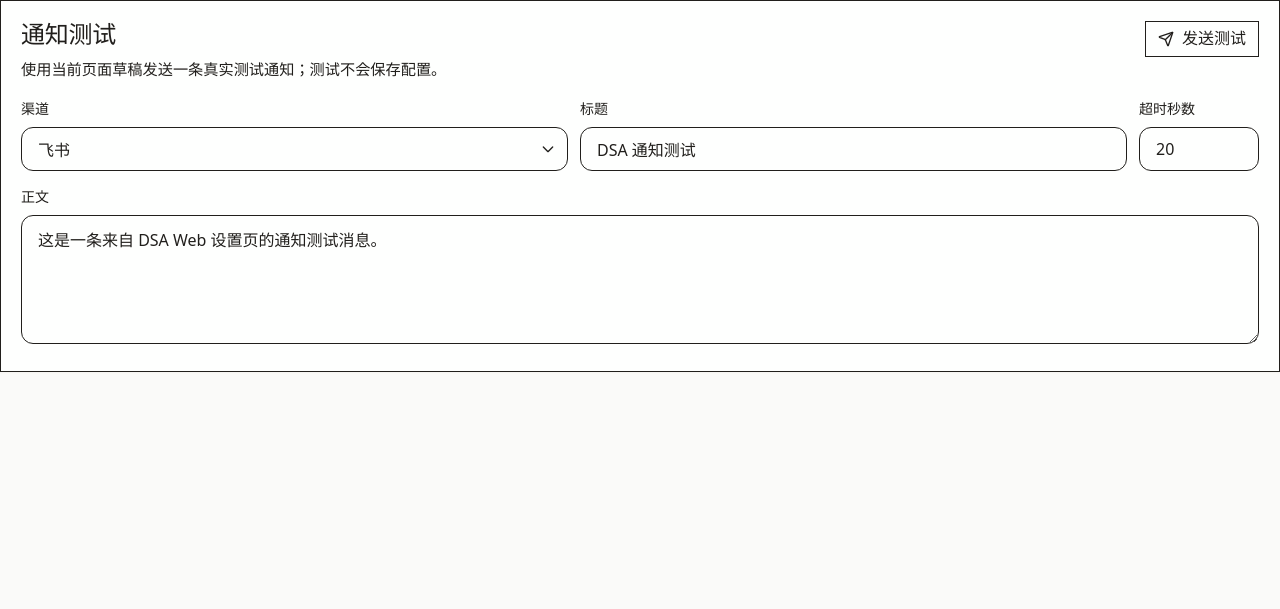
it: NotificationTestPanel › submits draft notification items and renders attempt details
The width and height of the screenshot is (1280, 609).
Click the button "发送测试" at [1202, 39], box [1145,21,1259,57]
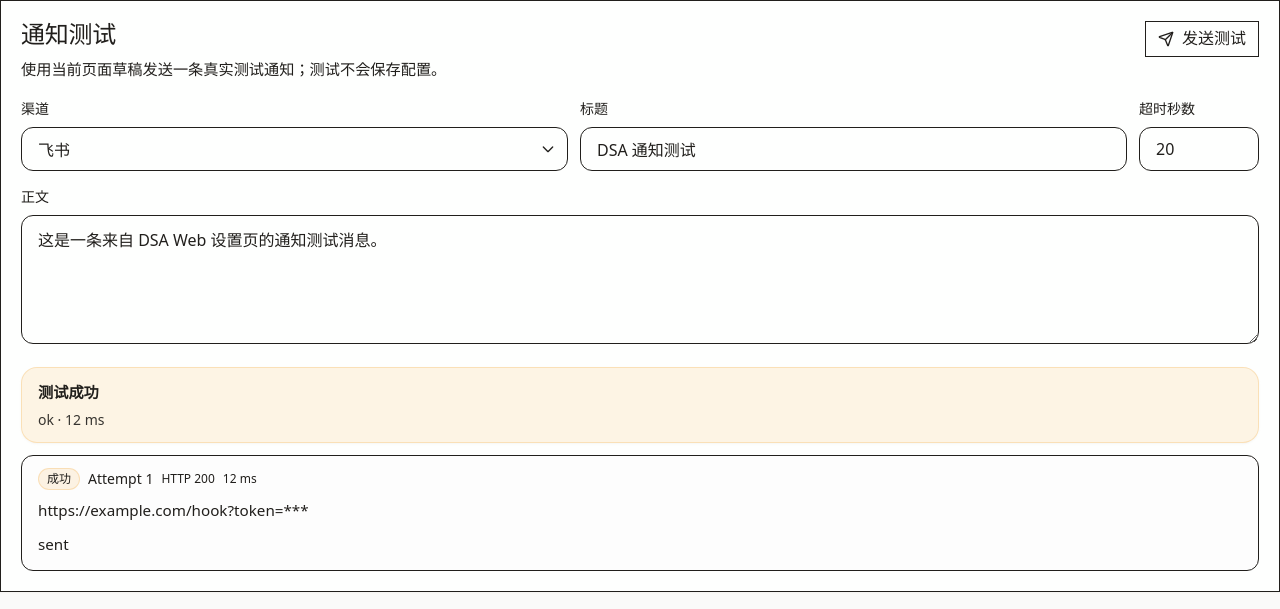
Expected: the text "测试成功" is shown, [38,380,104,406]
Expected: the text "HTTP 200" is shown, [161,471,215,487]
Expected: the text "https://example.com/hook?token=***" is shown, [38,498,309,524]
